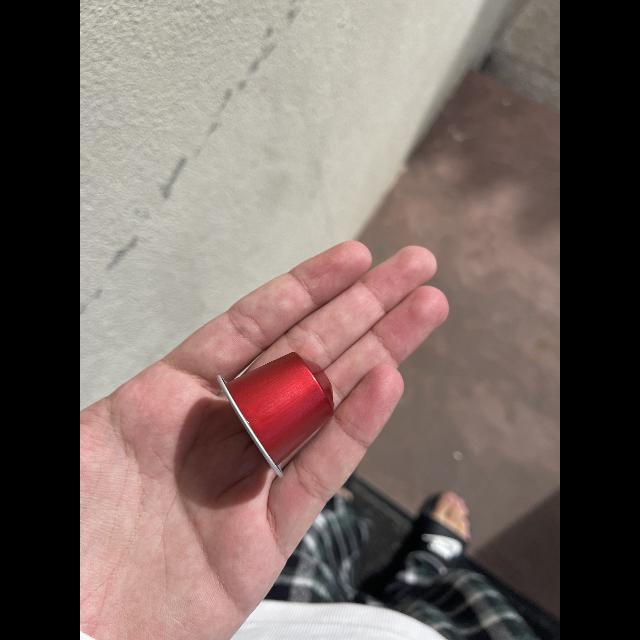intact_capsule: (205, 344, 352, 484)
